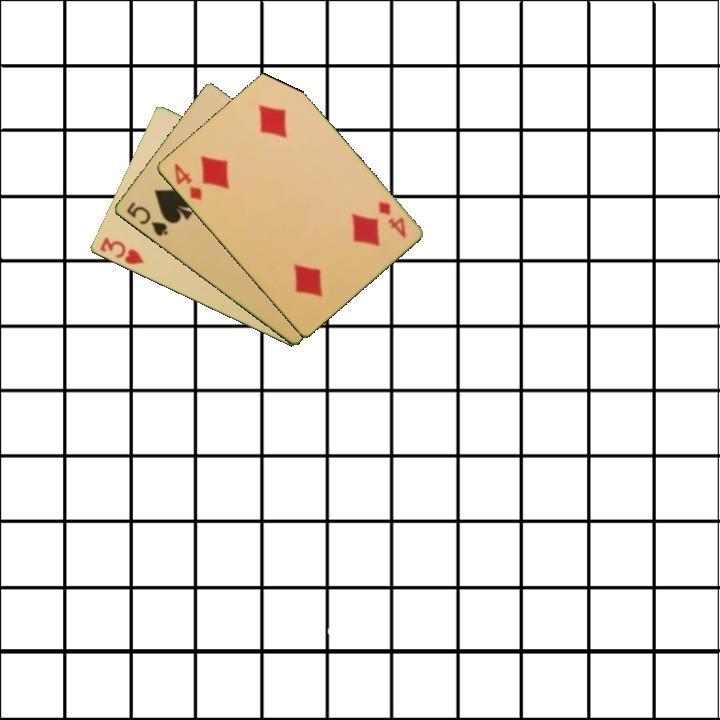3h: (96, 233, 146, 268)
4d: (170, 159, 205, 203), (374, 198, 409, 241)
5s: (122, 198, 171, 239)
